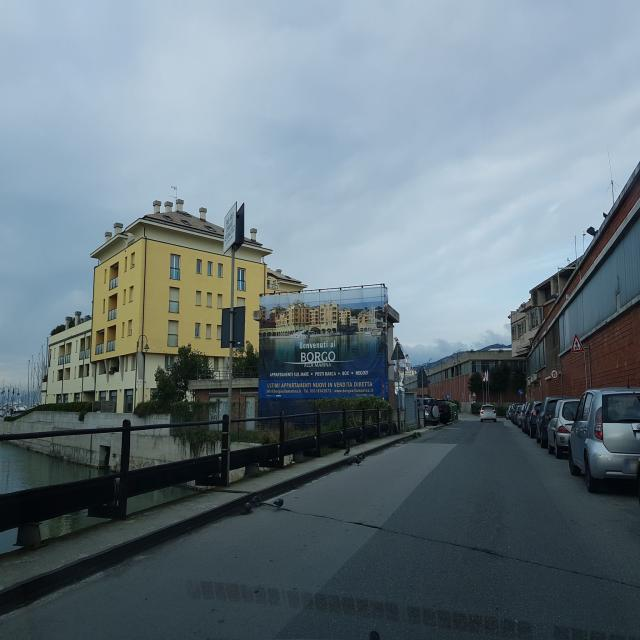car: (567, 385, 640, 492), (546, 396, 580, 458), (536, 396, 560, 447), (527, 399, 543, 438), (480, 404, 497, 424), (517, 402, 529, 430), (516, 402, 525, 428), (512, 403, 522, 424), (504, 404, 514, 420)
